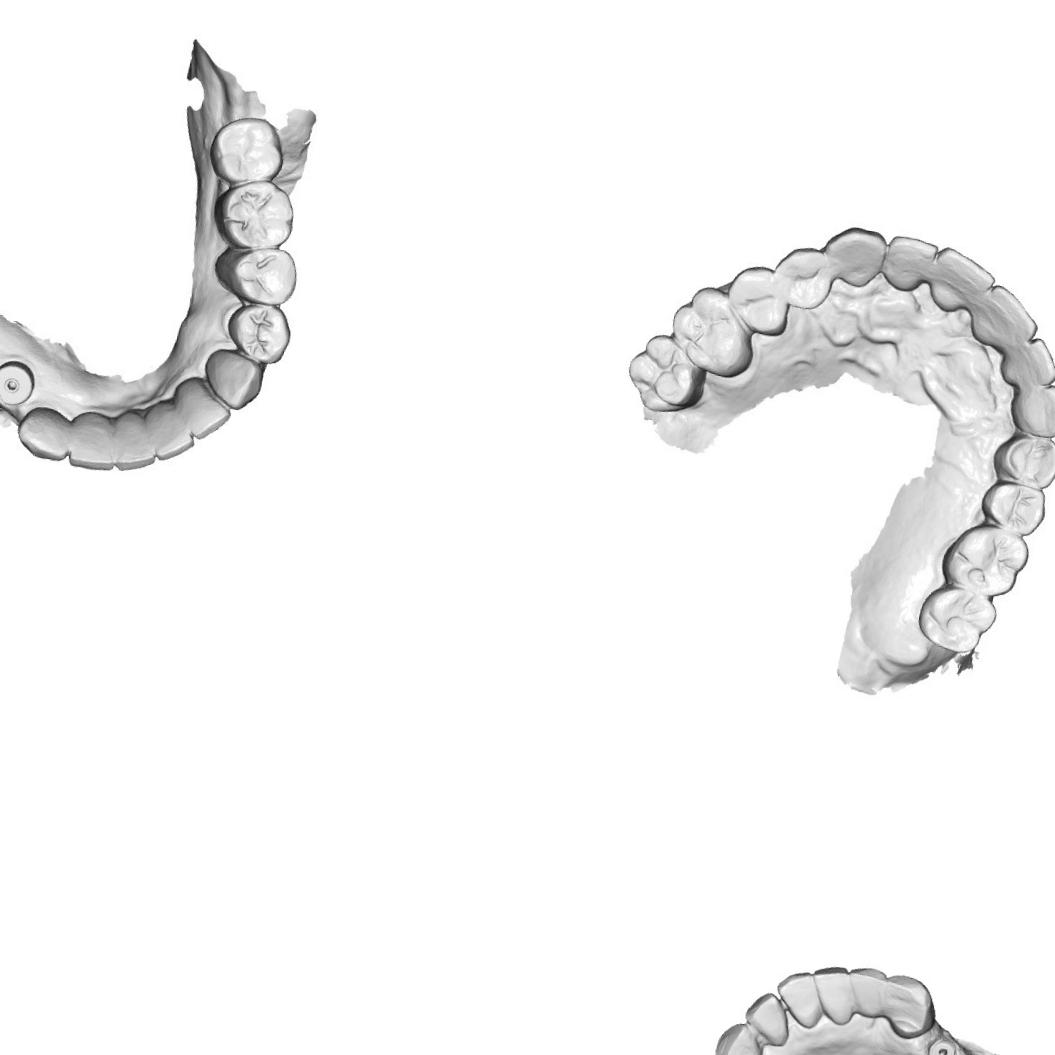canine: (199, 344, 267, 414), (876, 971, 942, 1043), (13, 396, 79, 465), (821, 221, 884, 288), (1007, 379, 1055, 439), (710, 1019, 768, 1055)
implant: (0, 356, 40, 410), (923, 1035, 960, 1055)
incisor: (967, 282, 1043, 359), (928, 246, 999, 316), (170, 374, 236, 444), (880, 231, 941, 294), (770, 966, 830, 1030), (67, 406, 124, 473), (804, 961, 860, 1028), (147, 400, 200, 467), (740, 988, 796, 1048), (110, 410, 164, 472), (997, 332, 1055, 389), (842, 963, 889, 1020)
molar: (666, 285, 758, 376), (203, 109, 291, 194), (210, 176, 298, 256), (914, 581, 998, 655), (625, 332, 704, 410), (946, 526, 1027, 596)
premolar: (220, 237, 302, 313), (220, 298, 294, 369), (770, 244, 836, 312), (730, 263, 790, 334), (982, 481, 1044, 535), (997, 432, 1055, 487)
